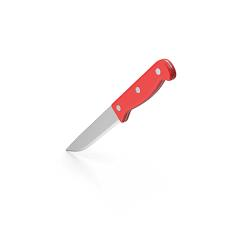Knife: (65, 57, 176, 152)
